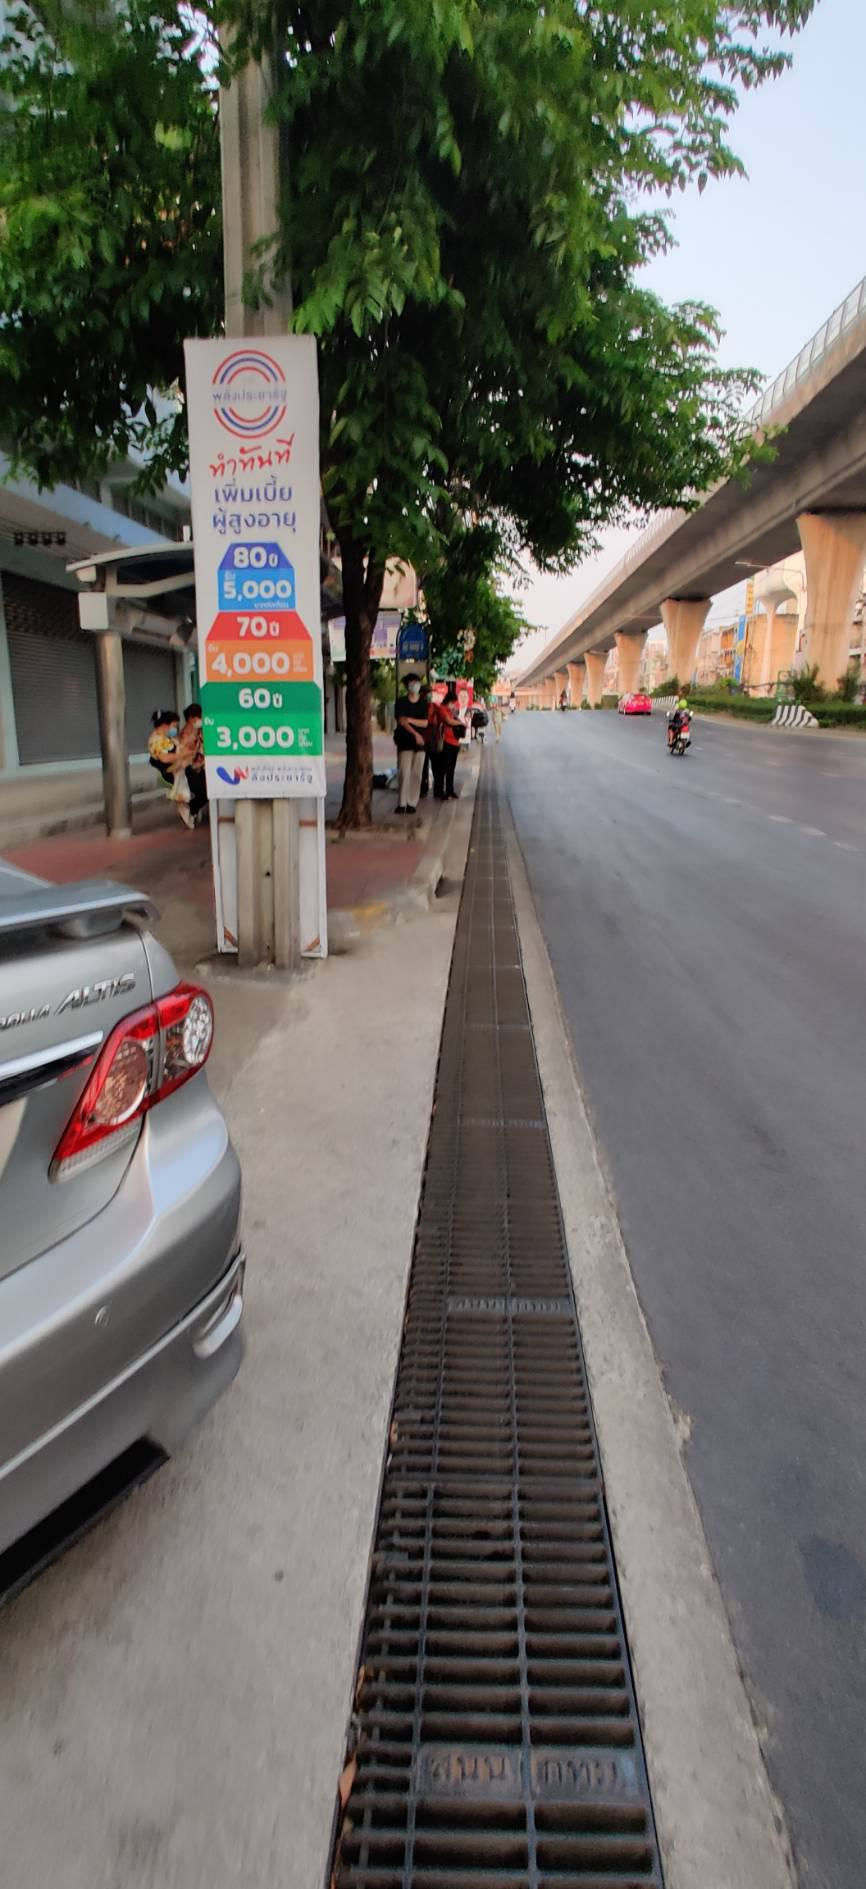Banner: (173, 328, 332, 795)
